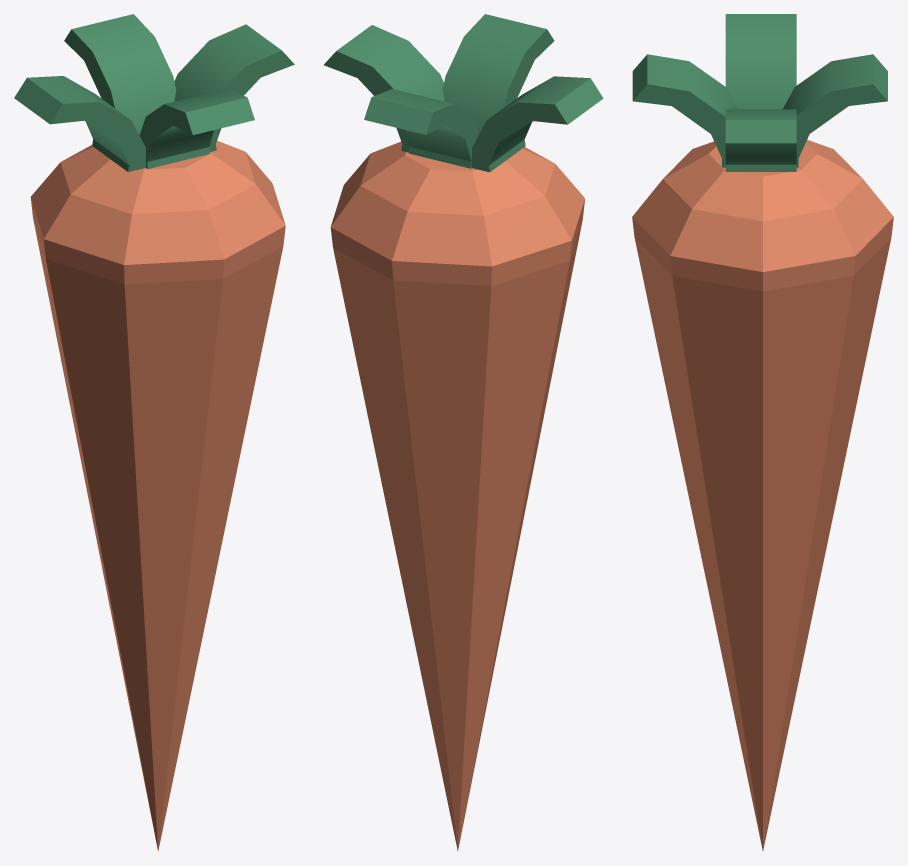
The model's file is Carrot.fbx.
The picture shows the model from 3 angles, left to right: view 1: azimuth 30°, elevation 25°; view 2: azimuth 150°, elevation 25°; view 3: azimuth 270°, elevation 25°; orthographic projection.
Parts seen in each view (by area): view 1: Carrot; view 2: Carrot; view 3: Carrot.
Boxes of the visible parts, left/top/right/bottom form: Carrot: left=14, top=14, right=294, bottom=851; Carrot: left=324, top=14, right=603, bottom=851; Carrot: left=632, top=14, right=893, bottom=850.
Size of the model in its own units: 2.18 by 6.72 by 2.04.
